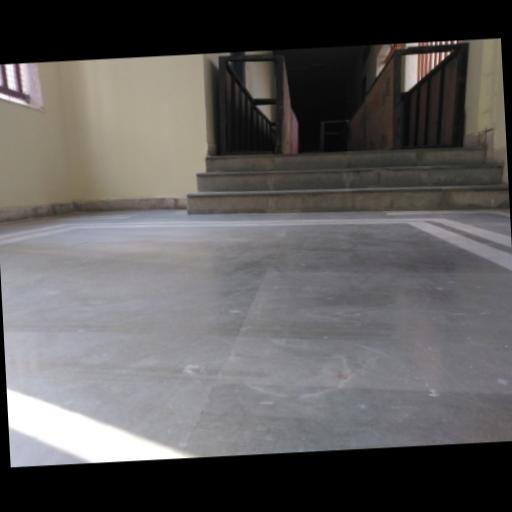stairs: (186, 149, 509, 214)
